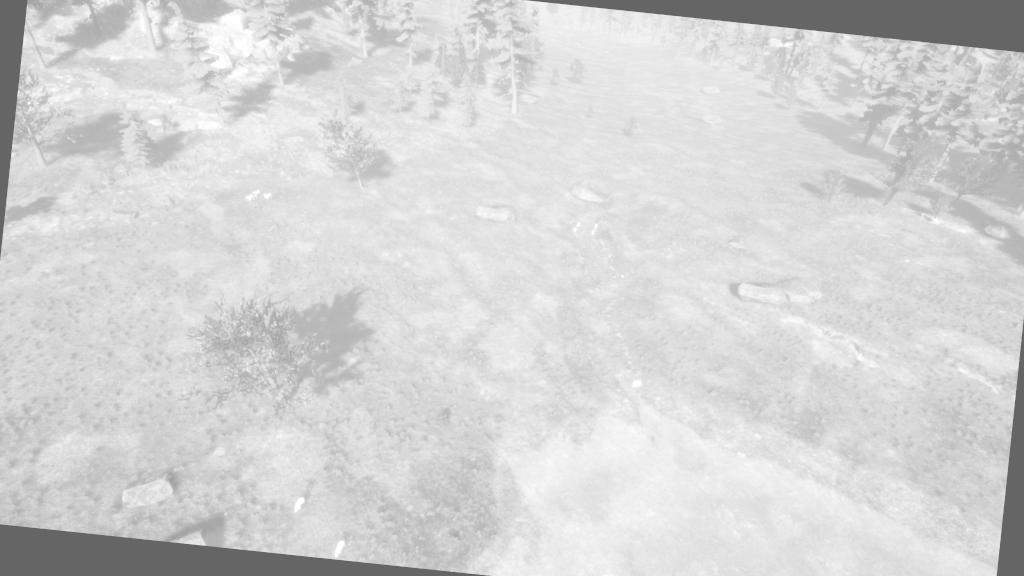pig: (287, 495, 309, 518), (330, 536, 350, 560)
zebra: (260, 190, 274, 204), (250, 187, 262, 199), (244, 191, 254, 204)
